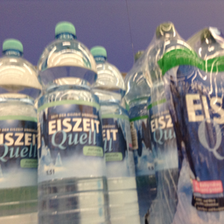water: (35, 21, 110, 224), (143, 21, 203, 221), (1, 39, 38, 224)
